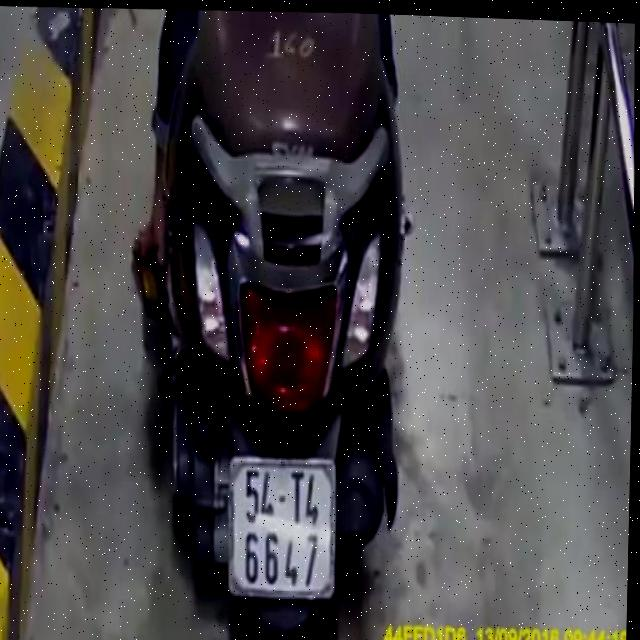motorcycle: (138, 6, 424, 640)
plate: (220, 450, 342, 605)
